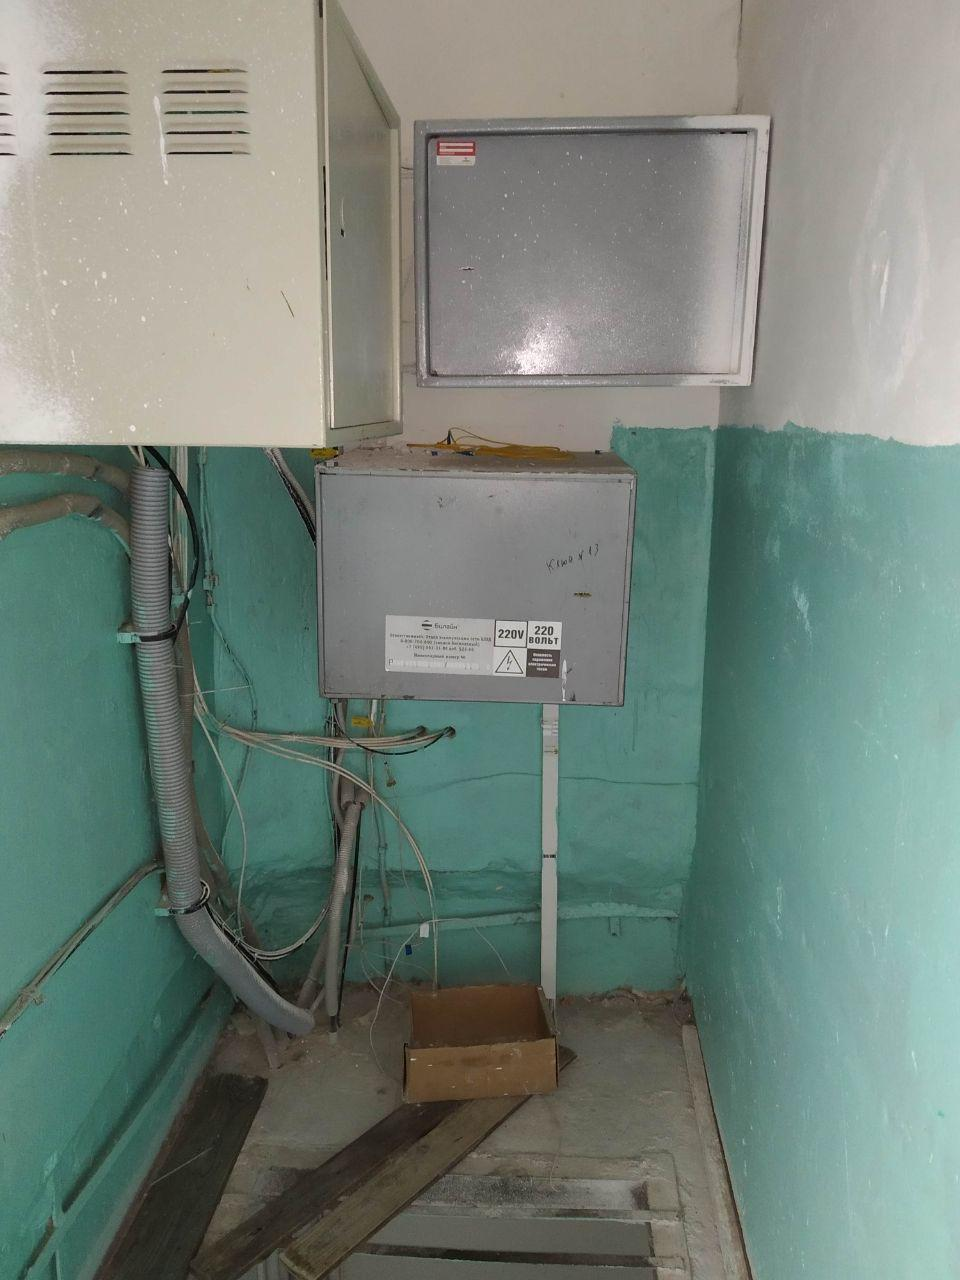shta-9m: (304, 444, 642, 711)
